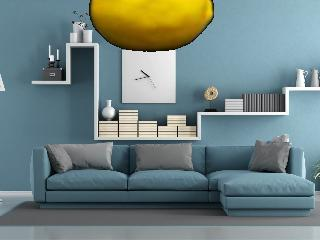lemon: (91, 0, 213, 50)
